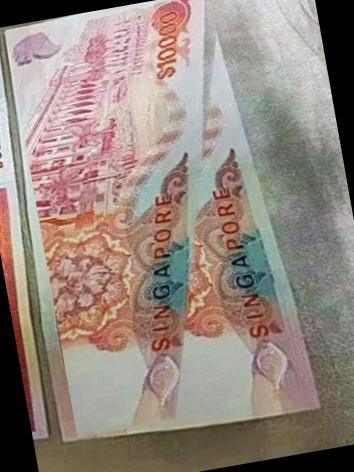10000SingaporeDollar: (6, 0, 295, 440)
